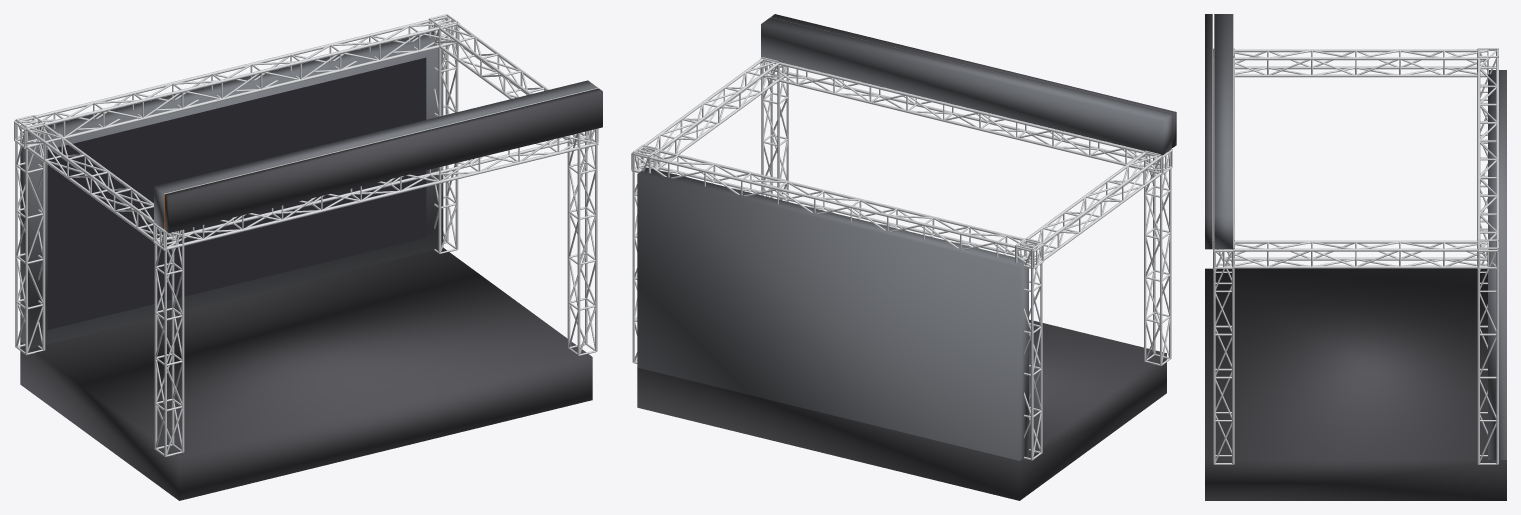
The model's file is fanzone_stage.glb.
3 views of the same model, side by side, from view 1: azimuth 30°, elevation 25°; view 2: azimuth 150°, elevation 25°; view 3: azimuth 270°, elevation 25° (orthographic). The views are drawn at different scales.
Parts seen in each view (by area): view 1: fanzone_stage; view 2: fanzone_stage; view 3: fanzone_stage.
Part boxes in pixels (bbox=[...]): fanzone_stage: bbox=[14, 14, 602, 500]; fanzone_stage: bbox=[631, 14, 1176, 500]; fanzone_stage: bbox=[1205, 14, 1506, 500].
Size of the model in its own units: 12.65 by 8.5 by 8.
5 materials, 1 textured.
